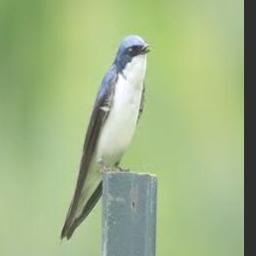Swallow: (60, 35, 152, 241)
